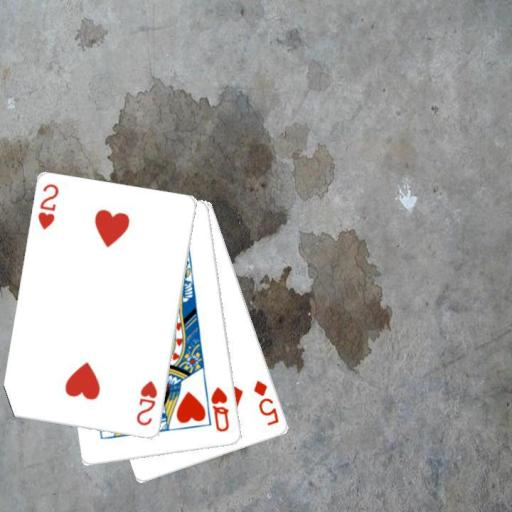2H: (133, 378, 159, 428), (35, 181, 60, 232)
5D: (250, 377, 281, 427)
QH: (208, 384, 231, 434)
